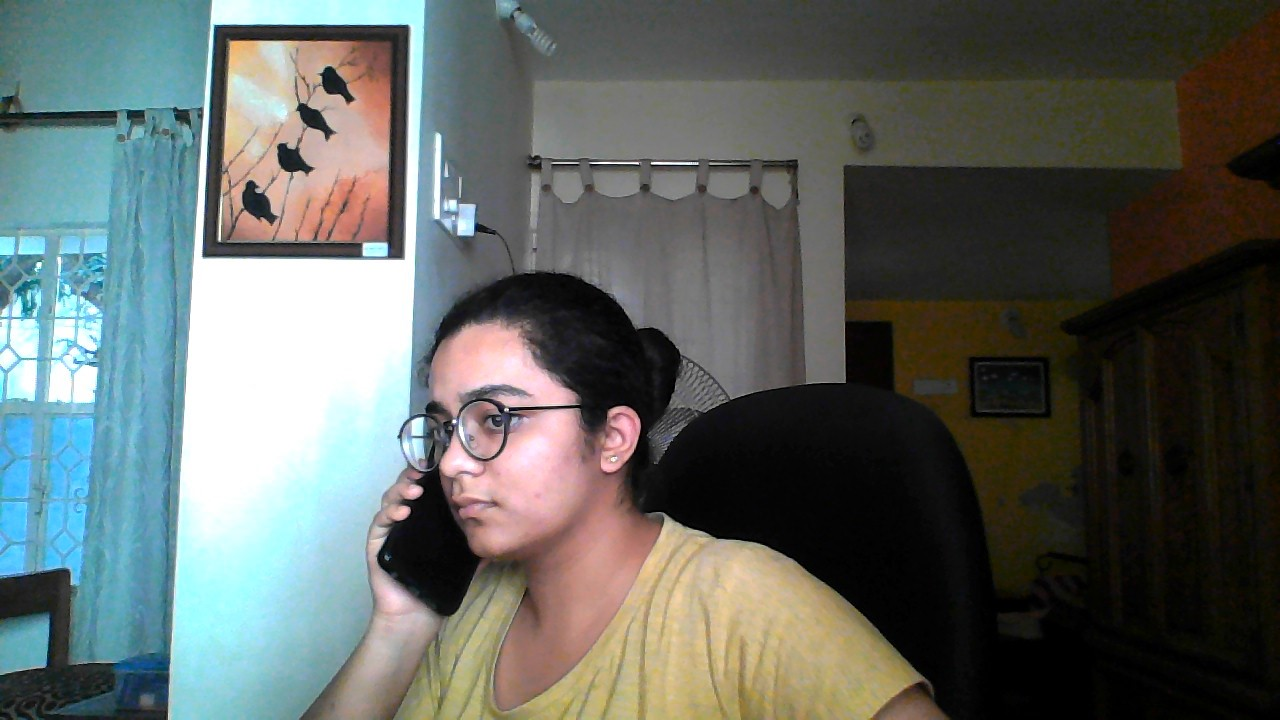mobile phone: (361, 407, 527, 626)
person: (420, 271, 709, 578)
